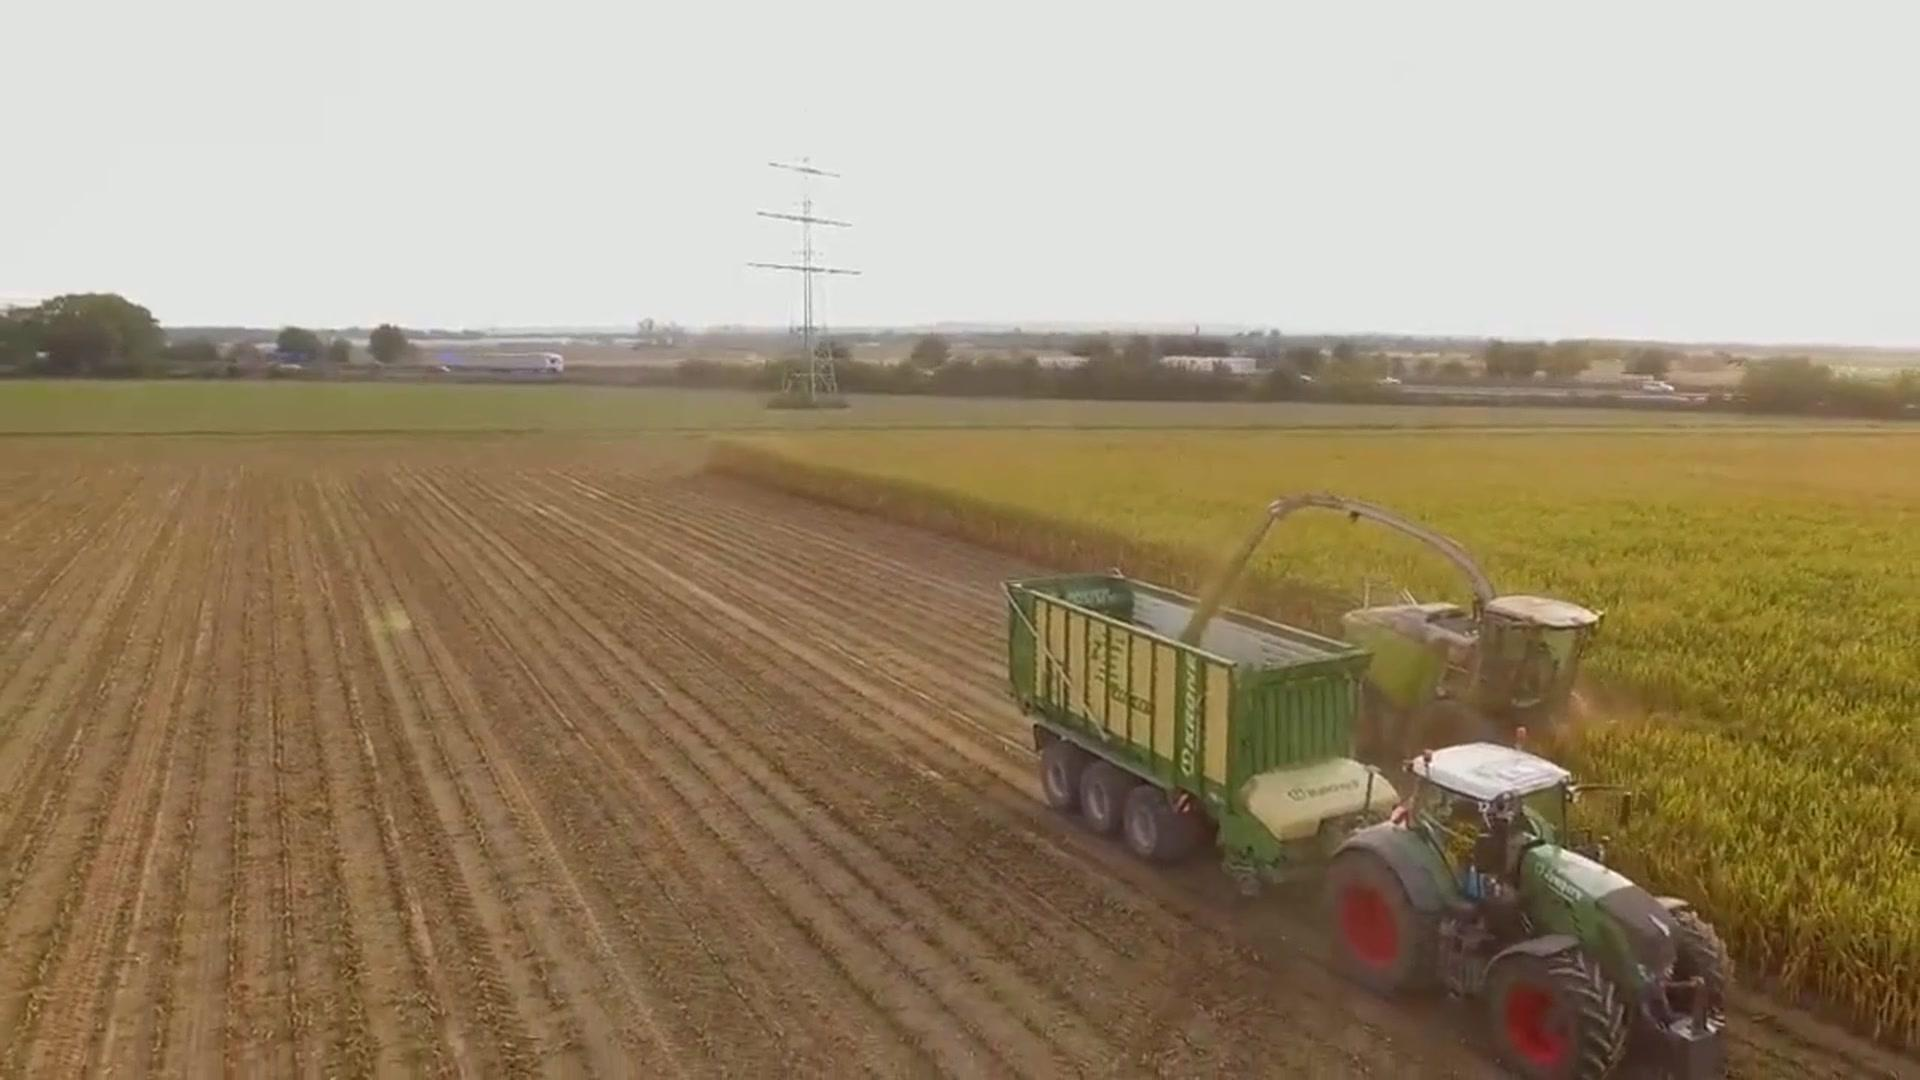combine harvester: (1259, 469, 1631, 806)
tractor: (1304, 732, 1745, 1080)
trailer: (993, 560, 1408, 897)
